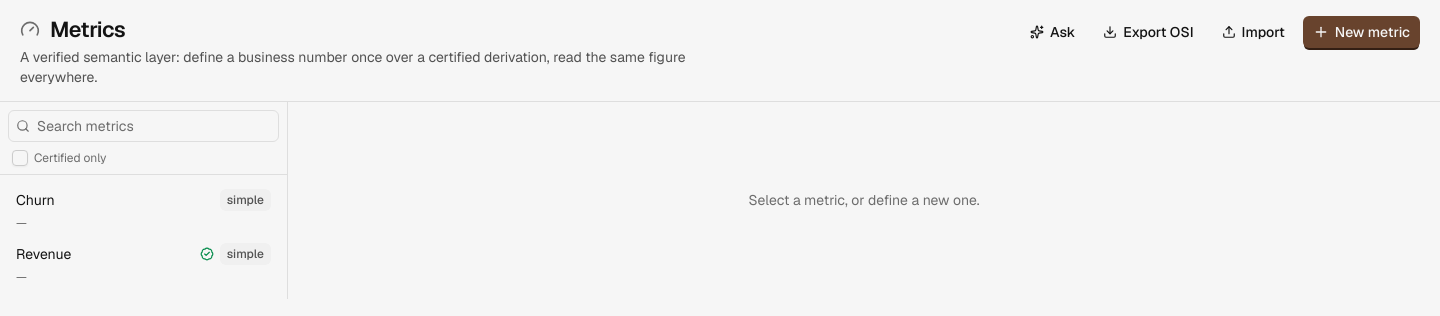
Test: MetricsPage › filters the catalog to certified metrics
Expected: the button "Churn simple —" is shown, 8,183 -> 279,237
Click the checkbox named "Certified only".
click(20, 158)  # box 12,150 -> 28,166
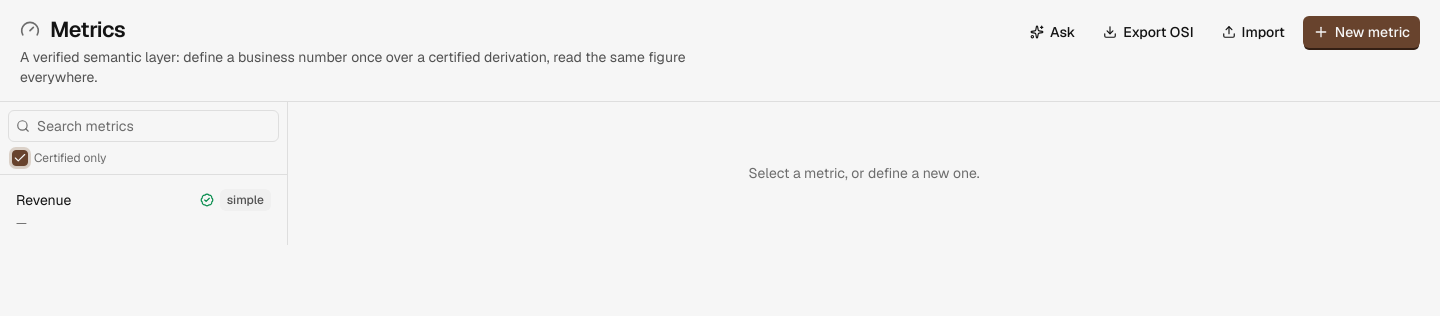
Expected: the button "Revenue simple —" is shown, 8,183 -> 279,237
Expected: the button "Churn" is gone
Click the checkbox named "Certified only".
click(20, 158)  # box 12,150 -> 28,166
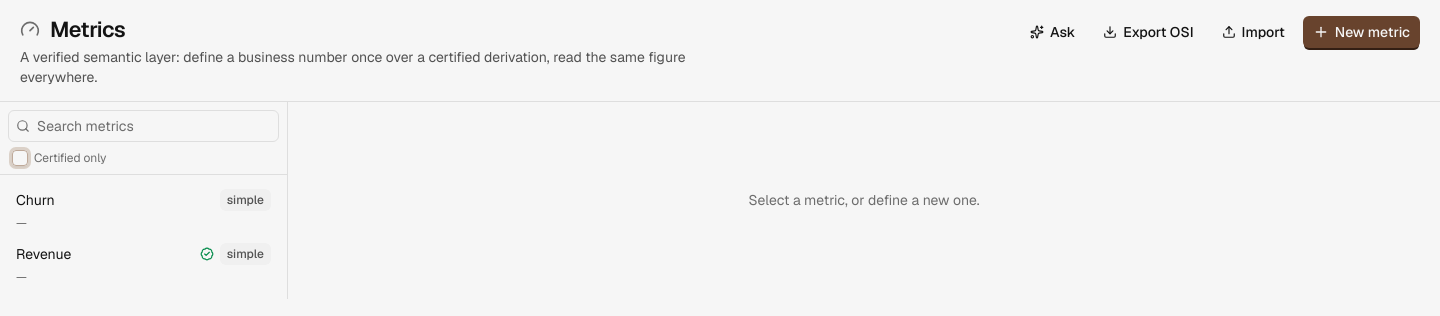
Expected: the button "Churn simple —" is shown, 8,183 -> 279,237
